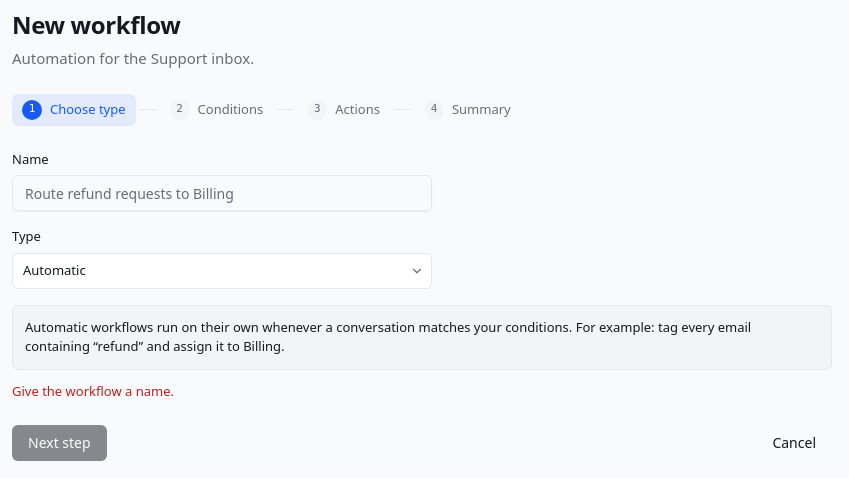
Scenario: the workflow wizard › keeps the draft when you step backwards
Type "Route refunds" into the field labelled "Name". click: (222, 193)
box: [12,175,432,211]
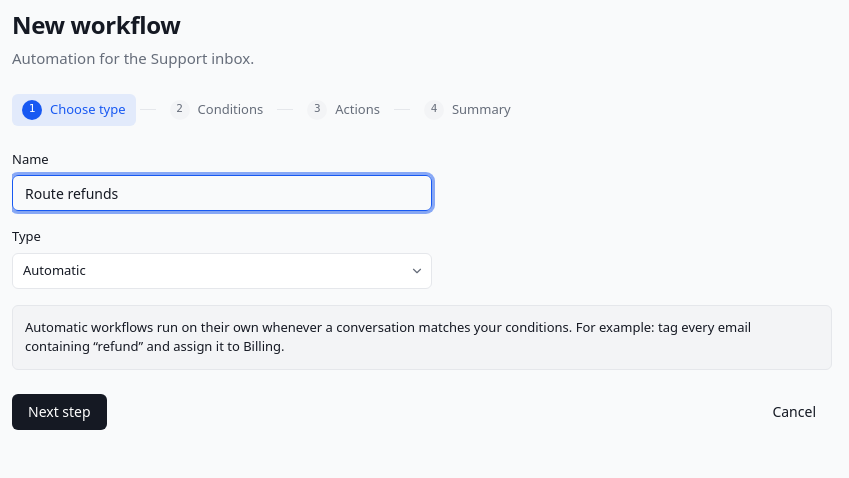
Click the button "Next step". click: (59, 412)
box: [12,394,107,430]
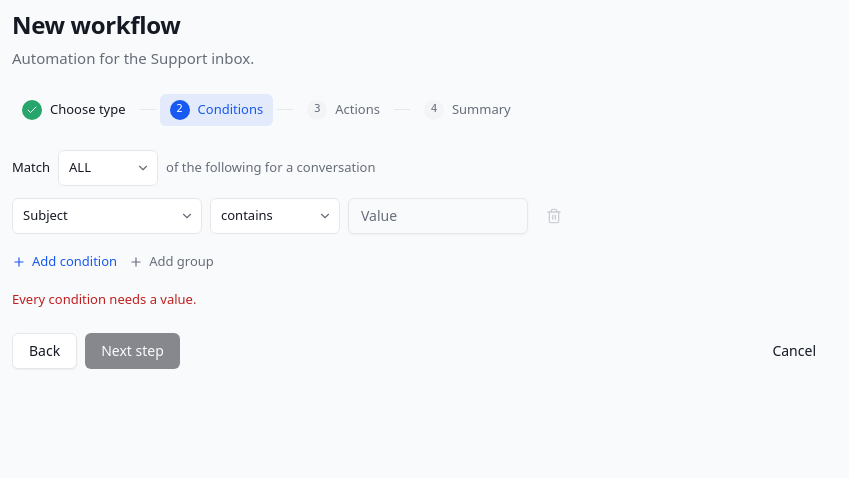
Click the button "Back". click: (45, 351)
box: [12,333,77,369]
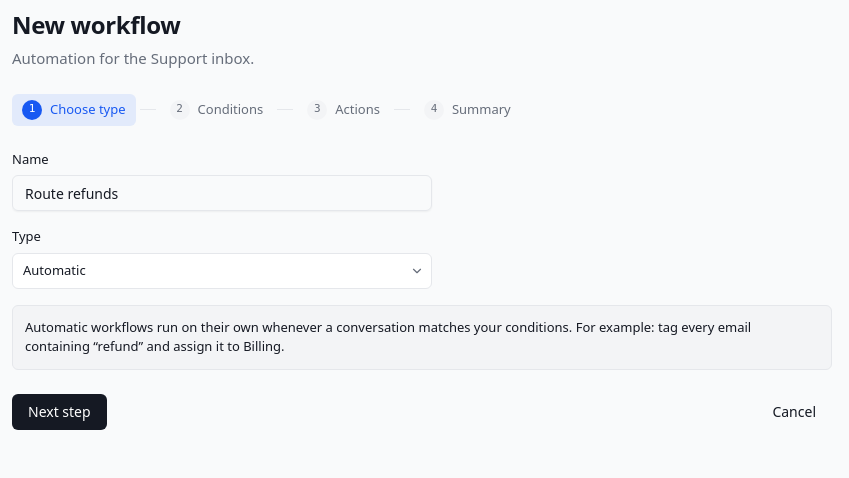
Check: the field labelled "Name" holds "Route refunds", box [12,175,432,211]
